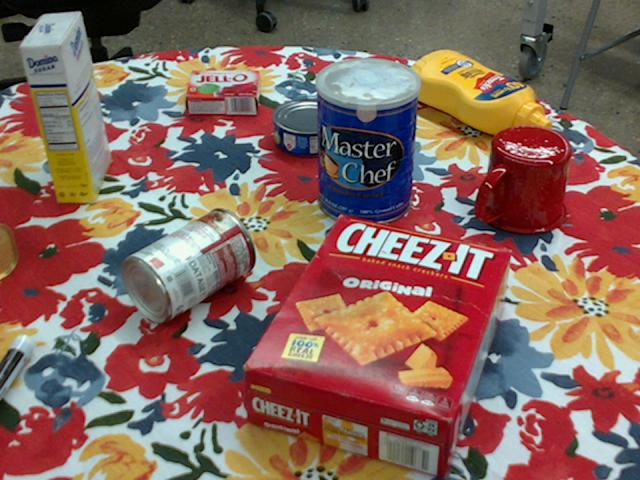cracker_box: (240, 218, 511, 479)
gelatin_box: (182, 73, 259, 117)
large_marker: (0, 333, 35, 397)
master_chef_can: (317, 58, 422, 227)
mug: (477, 126, 572, 236)
mustard_bottle: (405, 50, 550, 137)
potted_meat_can: (0, 222, 17, 277)
sugar_box: (21, 10, 111, 202)
tomato_soup_can: (120, 208, 254, 324)
tuna_fish_can: (272, 99, 345, 157)
